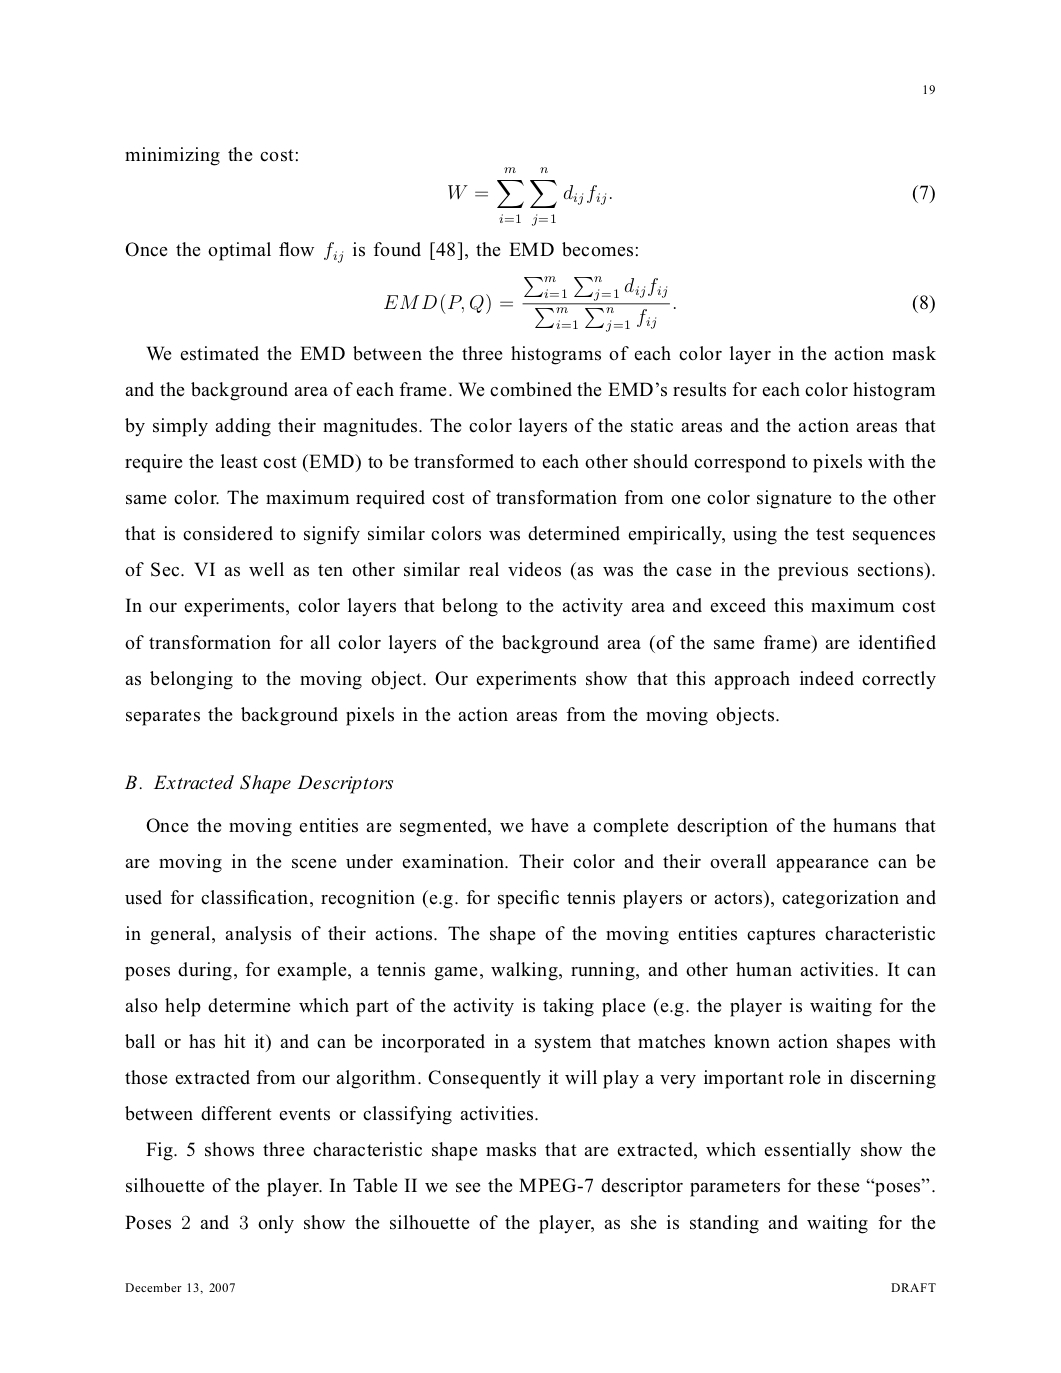formula: (385, 275, 934, 332), (448, 167, 934, 225)
